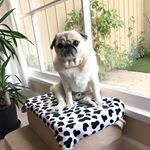puppy: (47, 28, 108, 110)
